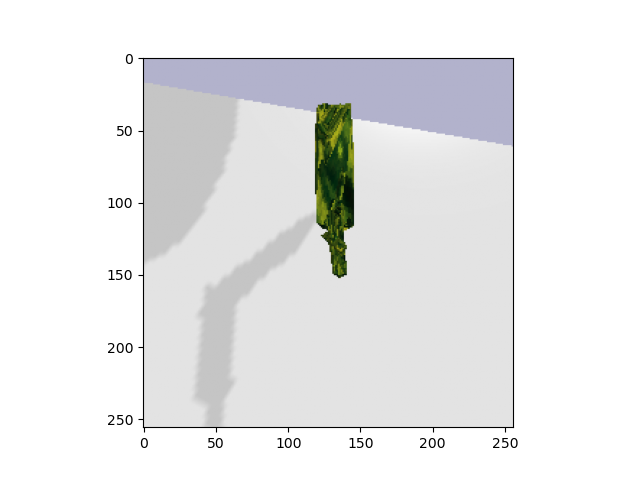v249b387_108: (297, 94, 373, 289)
